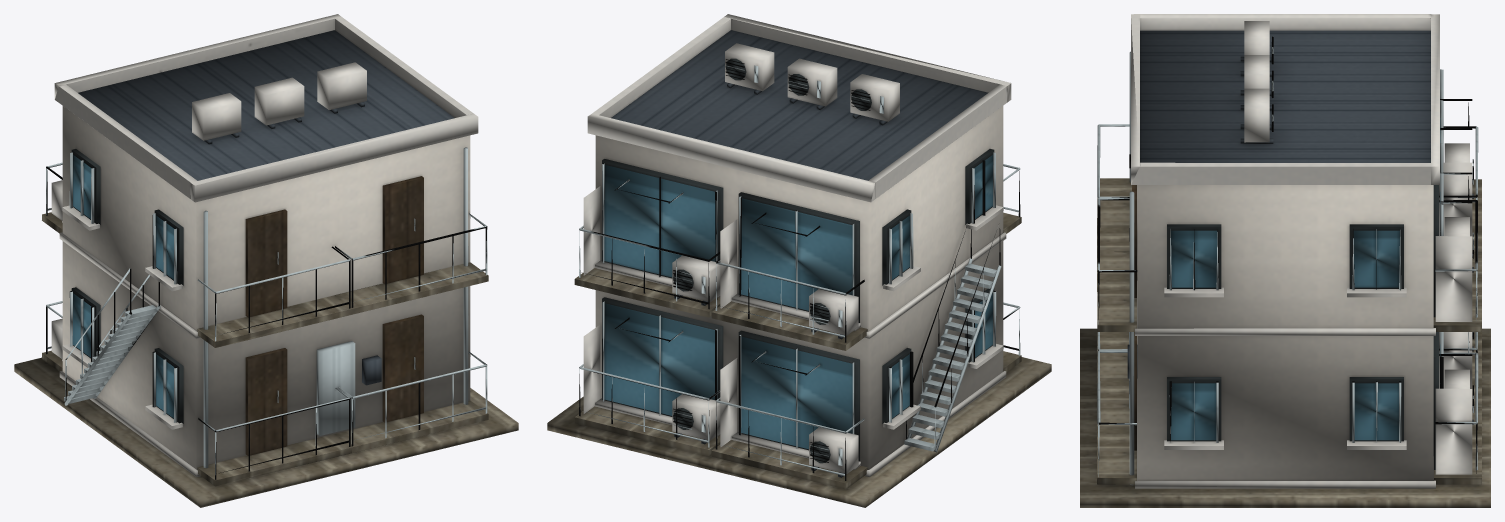
File: residential_015.obj
3 views of the same model, side by side, from view 1: azimuth 30°, elevation 25°; view 2: azimuth 150°, elevation 25°; view 3: azimuth 270°, elevation 25° (orthographic). The views are drawn at different scales.
Parts seen in each view (by area): view 1: residential_015; view 2: residential_015; view 3: residential_015.
Boxes of the visible parts, x1,y1,x2,y2 form: residential_015: (14, 14, 518, 507); residential_015: (547, 14, 1051, 507); residential_015: (1080, 14, 1490, 507).
Size of the model in its own units: 7.34 by 6.91 by 7.2.
1 material, 1 textured.
